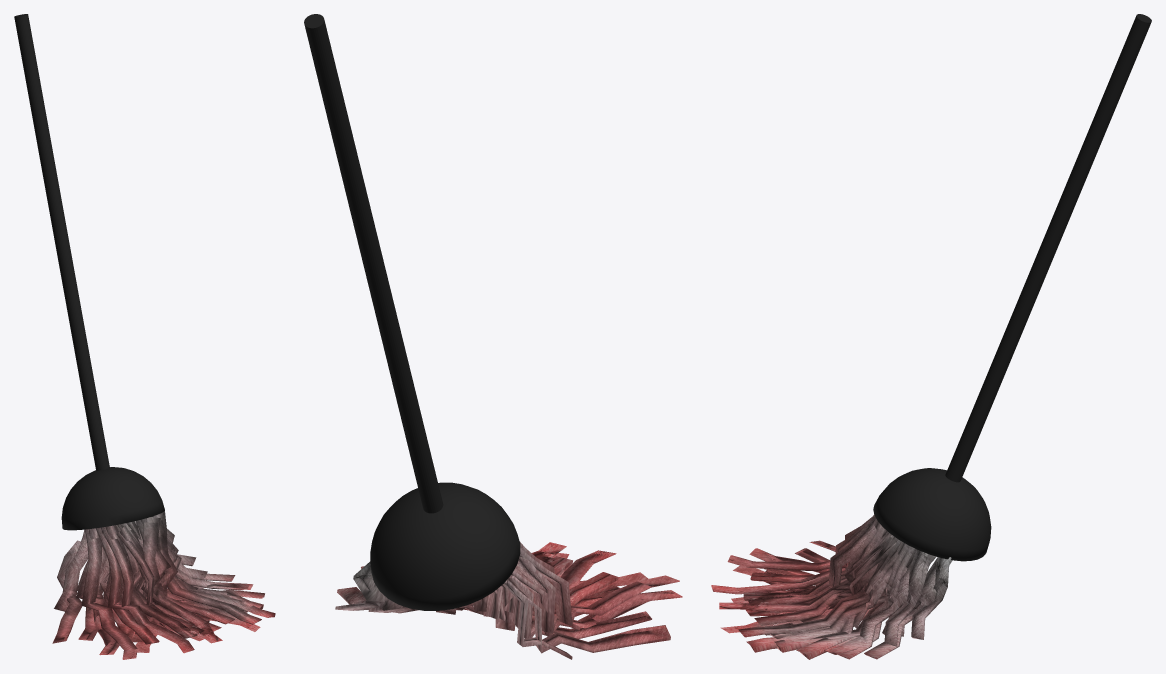
File: mop.fbx
3 views of the same model, side by side, from view 1: azimuth 30°, elevation 25°; view 2: azimuth 150°, elevation 25°; view 3: azimuth 270°, elevation 25° (orthographic). The views are drawn at different scales.
Parts seen in each view (by area): view 1: mopHair, Cylinder.021, Sphere; view 2: mopHair, Sphere, Cylinder.021; view 3: mopHair, Cylinder.021, Sphere.
Part boxes in pixels (left/top/right/bottom): mopHair: left=52, top=511, right=275, bottom=659; Cylinder.021: left=14, top=14, right=109, bottom=470; Sphere: left=61, top=467, right=164, bottom=530; mopHair: left=335, top=541, right=682, bottom=659; Sphere: left=370, top=482, right=520, bottom=610; Cylinder.021: left=304, top=14, right=443, bottom=513; mopHair: left=711, top=514, right=952, bottom=659; Cylinder.021: left=945, top=14, right=1151, bottom=482; Sphere: left=873, top=468, right=991, bottom=561.
Bounding box in the file's own units: 0.8611 × 2.01 × 1.36.
